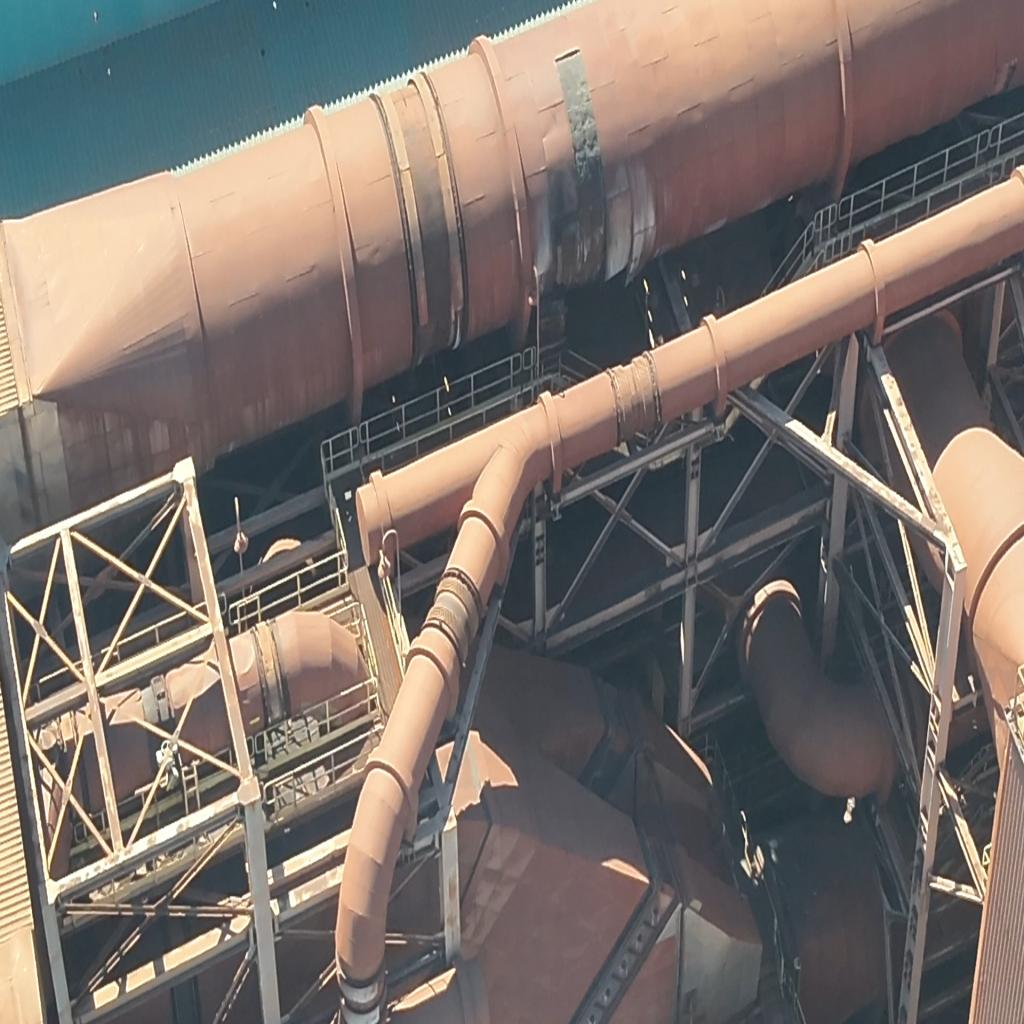Failures: (554, 49, 609, 280)
